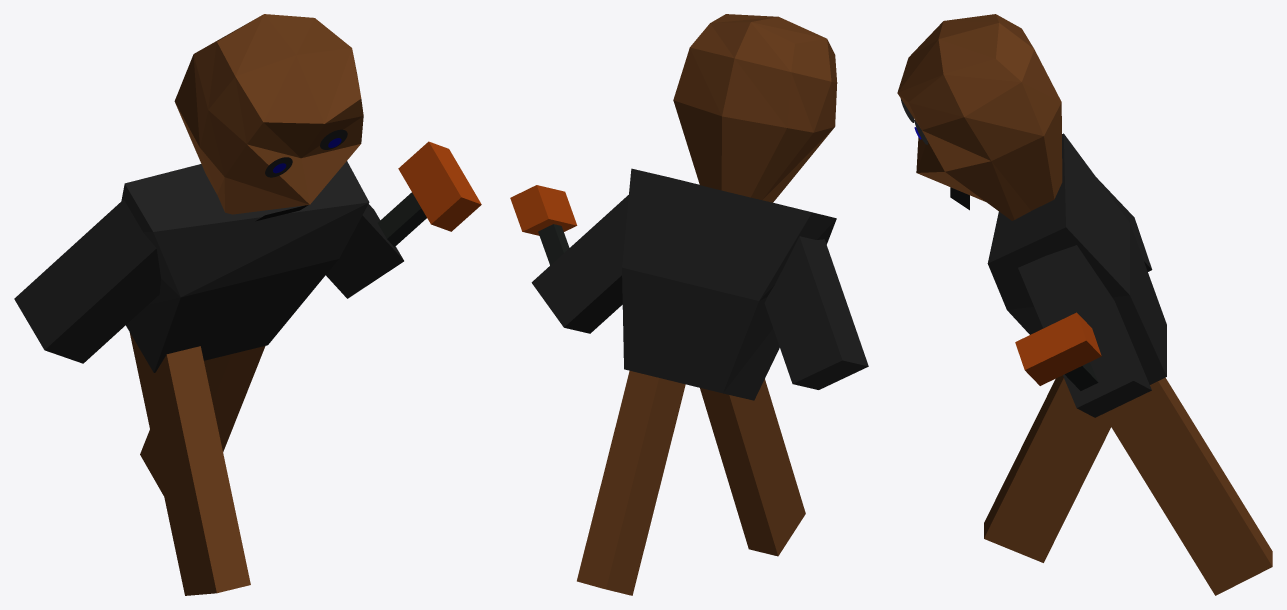
Rendered from servant1d.obj.
3 views of the same model, side by side, from view 1: azimuth 30°, elevation 25°; view 2: azimuth 150°, elevation 25°; view 3: azimuth 270°, elevation 25° (orthographic). The views are drawn at different scales.
Parts seen in each view (by area): view 1: Cube.001, Cube, Cube.004, Cube.003, Cube.008, Cube.005, Cube.002, Cube.007; view 2: Cube.001, Cube, Cube.005, Cube.004, Cube.003, Cube.002, Cube.008, Cube.007; view 3: Cube, Cube.001, Cube.005, Cube.004, Cube.002, Cube.008, Cube.007, Cube.003.
Boxes of the visible parts, x1,y1,x2,y2 form: Cube.001: (121, 161, 369, 372); Cube: (174, 14, 363, 214); Cube.004: (129, 332, 250, 595); Cube.003: (14, 199, 160, 363); Cube.008: (398, 141, 481, 231); Cube.005: (140, 346, 265, 495); Cube.002: (326, 204, 403, 298); Cube.007: (377, 192, 426, 246); Cube.001: (622, 168, 836, 400); Cube: (673, 14, 837, 202); Cube.005: (577, 371, 685, 595); Cube.004: (700, 379, 805, 556); Cube.003: (764, 236, 868, 389); Cube.002: (531, 195, 628, 333); Cube.008: (510, 185, 577, 235); Cube.007: (538, 224, 569, 265); Cube: (897, 14, 1062, 220); Cube.001: (987, 133, 1166, 384); Cube.005: (1103, 377, 1272, 595); Cube.004: (984, 375, 1110, 562); Cube.002: (1018, 245, 1151, 417); Cube.008: (1015, 312, 1101, 385); Cube.007: (1065, 362, 1098, 390); Cube.003: (1096, 177, 1152, 271).
Size of the model in its own units: 4.16 by 5.69 by 3.52.
